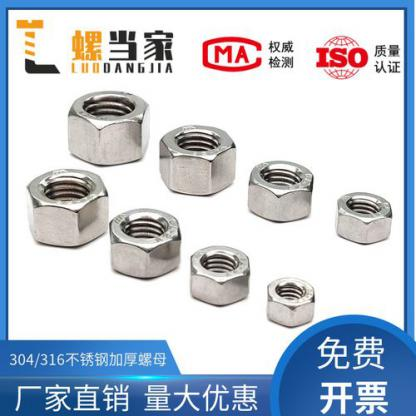FOD: (23, 167, 111, 249), (64, 89, 153, 166), (157, 120, 237, 195), (103, 208, 184, 280), (244, 157, 317, 223), (187, 244, 253, 307), (333, 190, 393, 247), (265, 276, 316, 328)
